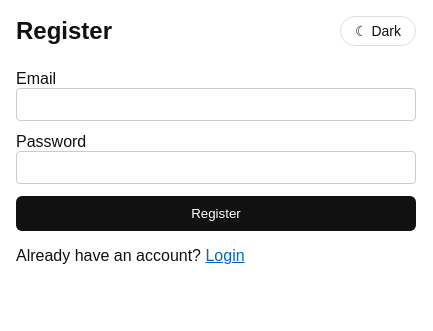
Test: Register page › shows an error when registration fails with a server message
This screenshot has width=433, height=331.
Type "taken@example.com" into the field labelled "Email" at (216, 104), box [16,88,416,121]
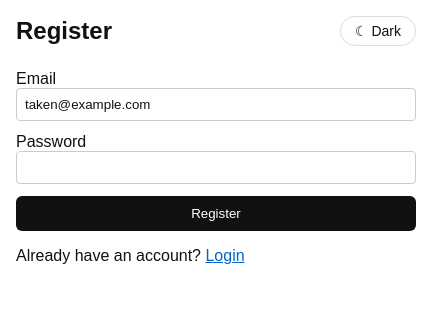
Type "pass" into the password field labelled "Password" at (216, 168), box [16,151,416,184]
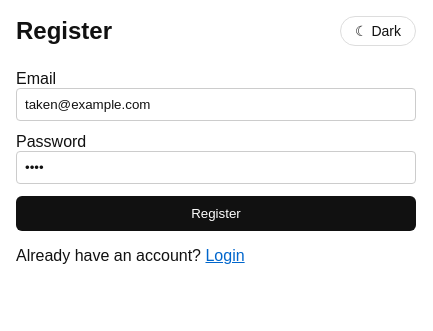
Click the button "Register" at (216, 214), box [16,196,416,231]
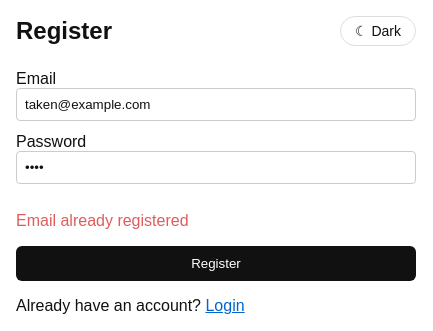
Expected: the text "Email already registered" is shown, [16,212,188,229]
